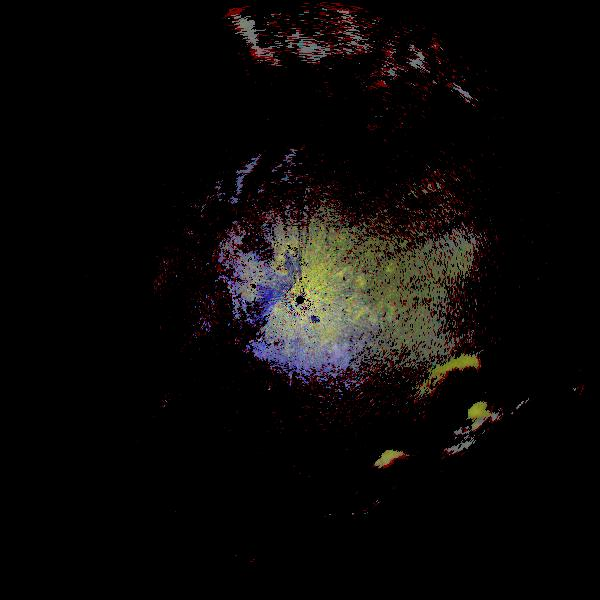roost: (366, 438, 435, 507)
